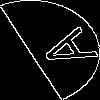A: (25, 25, 99, 76)
